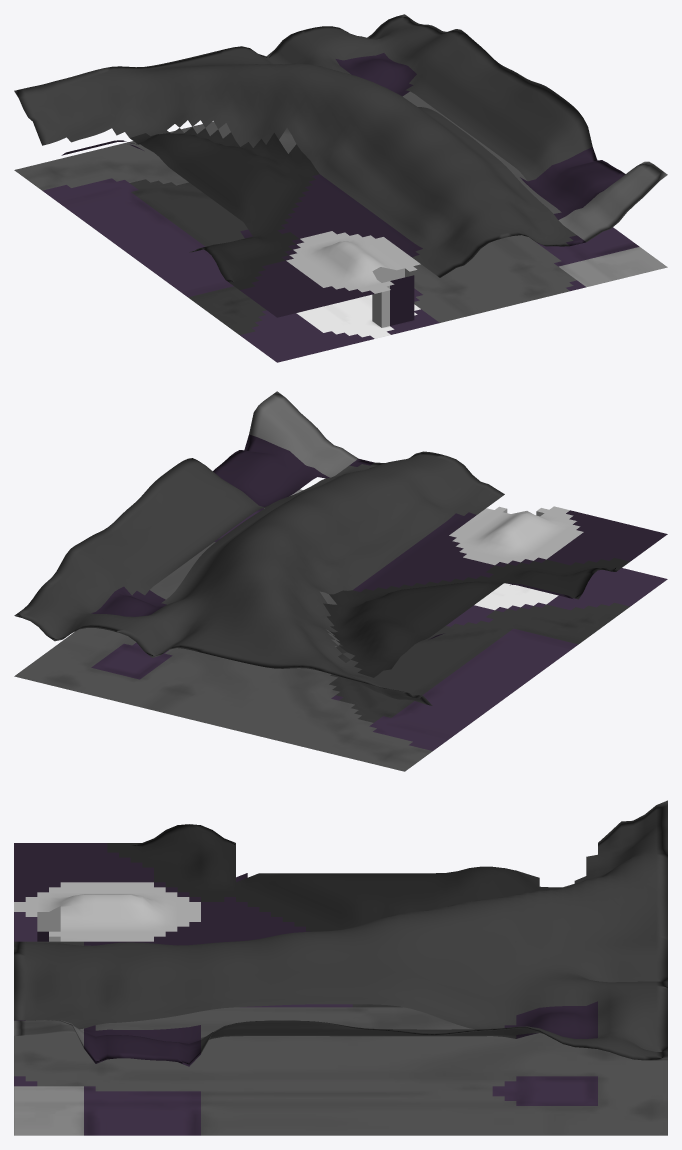
File: delbld-hull-559.glb
The picture shows the model from 3 angles, top to bottom: view 1: azimuth 30°, elevation 25°; view 2: azimuth 150°, elevation 25°; view 3: azimuth 270°, elevation 25°; orthographic projection. The views are drawn at different scales.
Visible parts, largest first — view 1: delbld-hull-559; view 2: delbld-hull-559; view 3: delbld-hull-559.
Boxes of the visible parts, x1,y1,x2,y2 form: delbld-hull-559: [14, 14, 667, 362]; delbld-hull-559: [14, 391, 667, 771]; delbld-hull-559: [14, 800, 667, 1135].
Bounding box in the file's own units: 2 × 0.5 × 2.33.
Materials: 9 (9 with a texture image).
